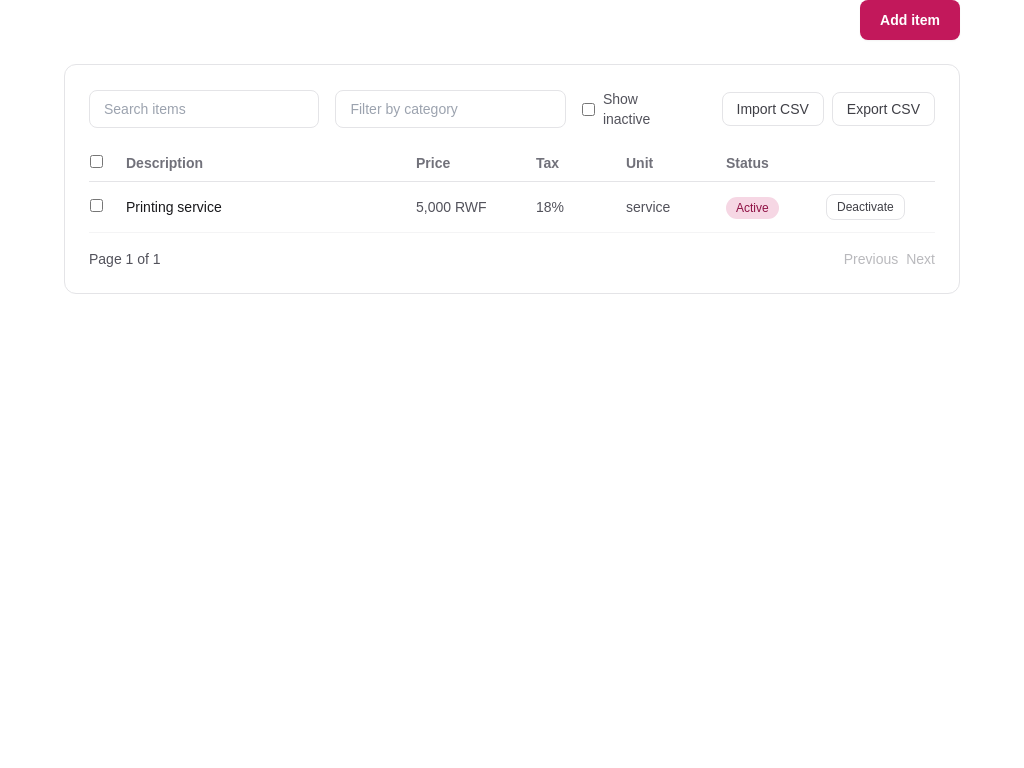
Items › opens the edit modal when an item's description button is clicked
This screenshot has width=1024, height=768.
Click the button "Printing service". click: (174, 207)
box: [126, 197, 222, 217]
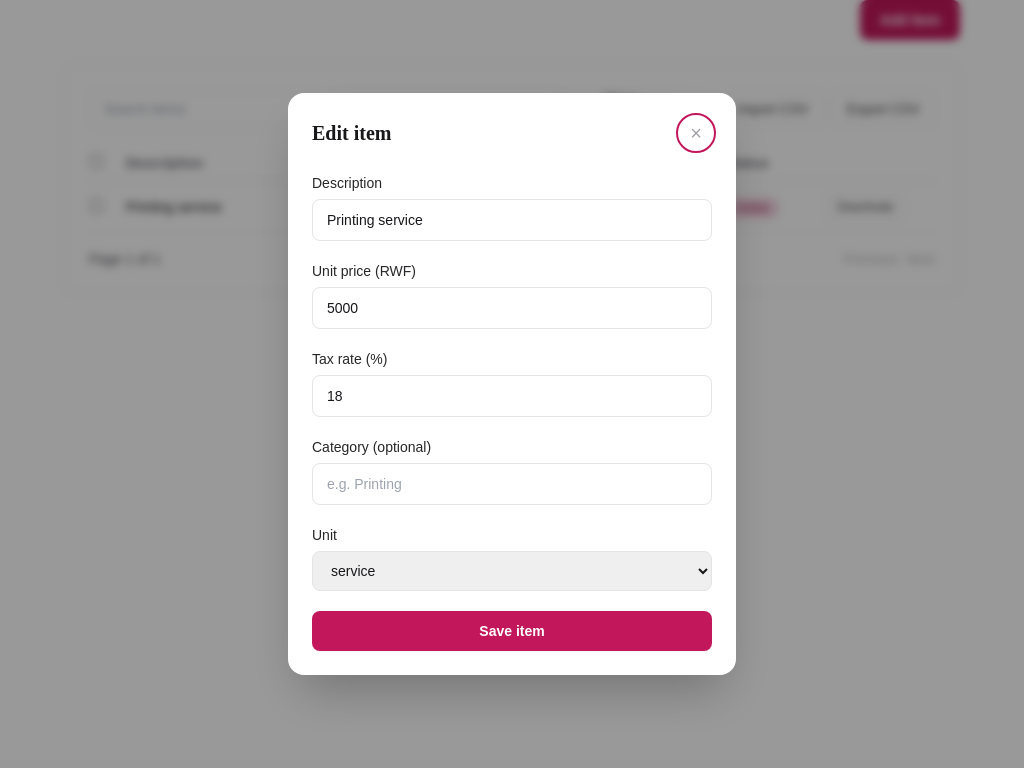
expect the heading "Edit item" is shown: met, box [312, 119, 391, 147]
